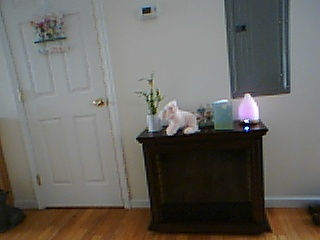piggy: (158, 99, 198, 137)
